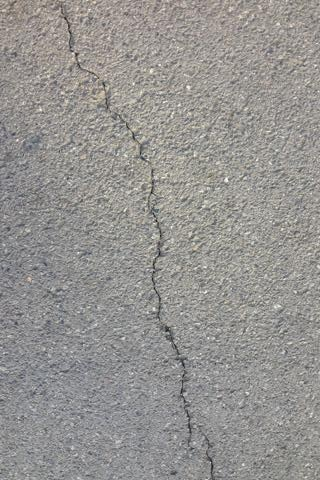A: (54, 4, 217, 480)
